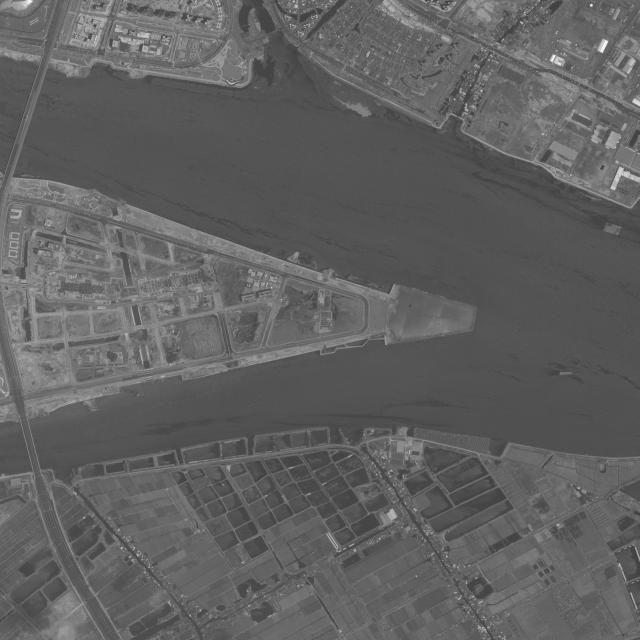ship: (604, 221, 624, 231), (603, 225, 621, 233), (602, 228, 620, 236), (559, 371, 582, 375), (86, 405, 99, 411), (87, 408, 101, 413), (136, 391, 145, 397), (71, 468, 76, 476)
storage-tank: (589, 3, 593, 7)
